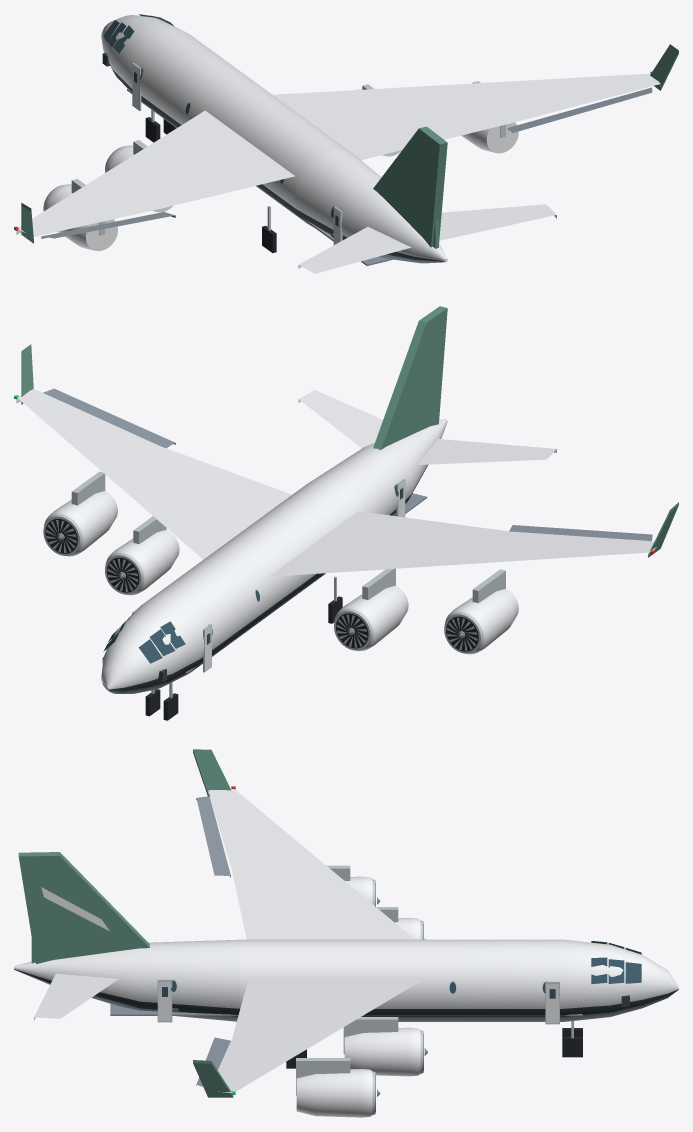
File: atlas.glb
The picture shows the model from 3 angles, top to bottom: view 1: azimuth 30°, elevation 25°; view 2: azimuth 150°, elevation 25°; view 3: azimuth 270°, elevation 25°; orthographic projection.
Parts seen in each view (by area): view 1: wing_r, wing_l, body_mid, body_front, body_aft, tail, elevator, engine_l, engine_r, aileron_r, gear, aileron_l (+2 smaller); view 2: wing_r, wing_l, body_front, body_mid, engine_l, engine_r, tail, body_aft, elevator, aileron_r, gear, windshield (+2 smaller); view 3: wing_l, body_front, wing_r, body_mid, body_aft, tail, engine_r, elevator, engine_l, doors, aileron_l, windshield (+2 smaller).
Part boxes in pixels (x1,y1,x2,y2): wing_r: [272, 44, 678, 160]; wing_l: [14, 110, 294, 243]; body_mid: [187, 71, 353, 222]; body_front: [101, 15, 245, 127]; body_aft: [295, 150, 447, 263]; tail: [373, 126, 447, 247]; elevator: [298, 204, 556, 273]; engine_l: [43, 140, 172, 251]; engine_r: [357, 81, 518, 156]; aileron_r: [507, 87, 652, 132]; gear: [145, 110, 276, 253]; aileron_l: [41, 212, 175, 238]; wing_r: [14, 344, 291, 559]; wing_l: [269, 502, 678, 576]; body_front: [101, 558, 258, 693]; body_mid: [199, 479, 364, 629]; engine_l: [334, 568, 518, 654]; engine_r: [43, 471, 179, 595]; tail: [373, 306, 447, 449]; body_aft: [311, 419, 447, 515]; elevator: [298, 390, 556, 464]; aileron_r: [43, 388, 175, 448]; gear: [145, 576, 342, 720]; windshield: [103, 613, 185, 663]; wing_l: [193, 749, 414, 939]; body_front: [453, 939, 678, 1021]; wing_r: [193, 978, 424, 1097]; body_mid: [240, 939, 452, 1021]; body_aft: [14, 939, 239, 1021]; tail: [18, 852, 149, 964]; engine_r: [296, 1017, 427, 1117]; elevator: [34, 973, 118, 1020]; engine_l: [327, 865, 425, 939]; doors: [157, 979, 559, 1024]; aileron_l: [196, 796, 230, 877]; windshield: [591, 941, 641, 984].
Bounding box in the file's own units: 38.76 × 11.5 × 35.
